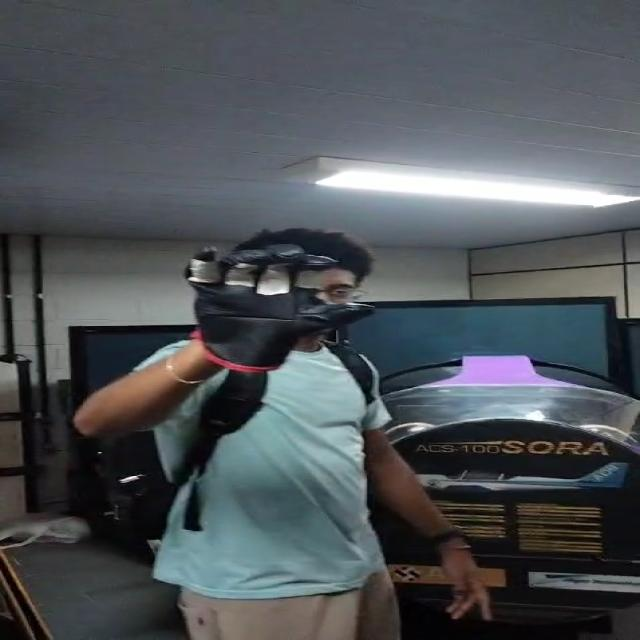Gloves: (174, 243, 368, 367)
